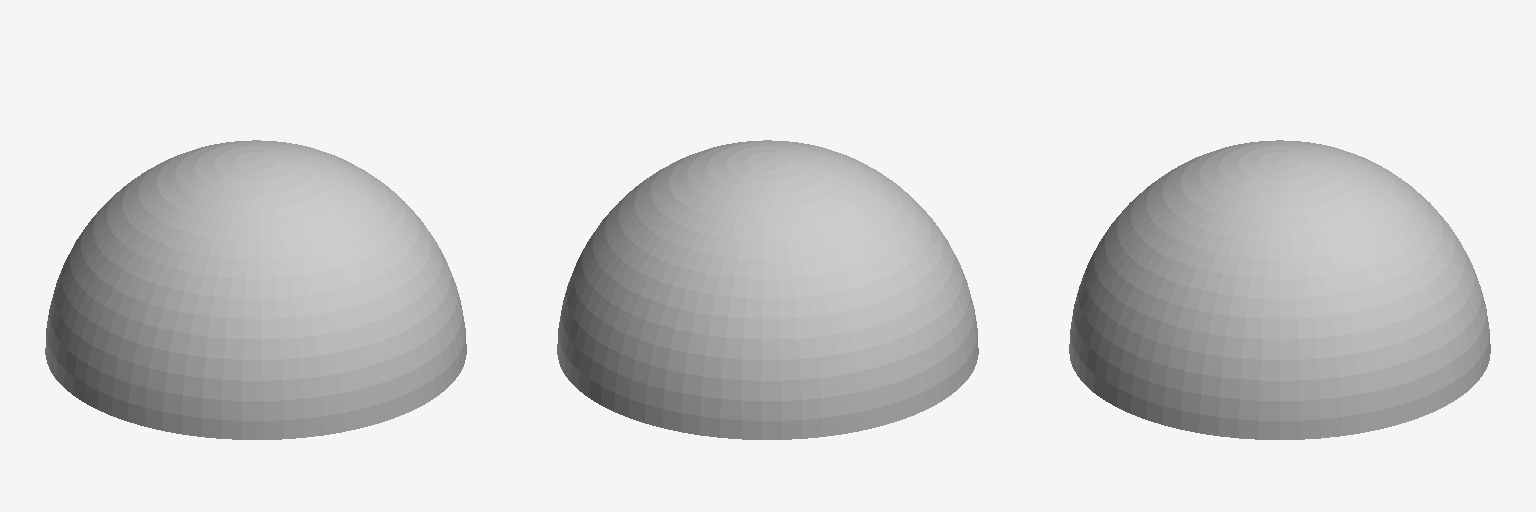
File: core.obj
The picture shows the model from 3 angles: view 1: azimuth 30°, elevation 25°; view 2: azimuth 150°, elevation 25°; view 3: azimuth 270°, elevation 25°; orthographic projection.
Parts seen in each view (by area): view 1: Sphere_Sphere.002; view 2: Sphere_Sphere.002; view 3: Sphere_Sphere.002.
Part boxes in pixels (bbox=[...]): Sphere_Sphere.002: bbox=[45, 140, 466, 439]; Sphere_Sphere.002: bbox=[557, 140, 978, 439]; Sphere_Sphere.002: bbox=[1069, 140, 1490, 439].
Size of the model in its own units: 0.0375 by 0.0188 by 0.0375.